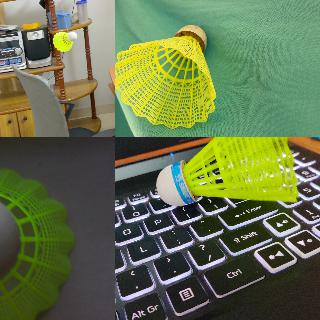shuttlecock: (0, 168, 74, 319), (115, 25, 216, 130), (156, 137, 301, 205), (53, 32, 77, 52)
